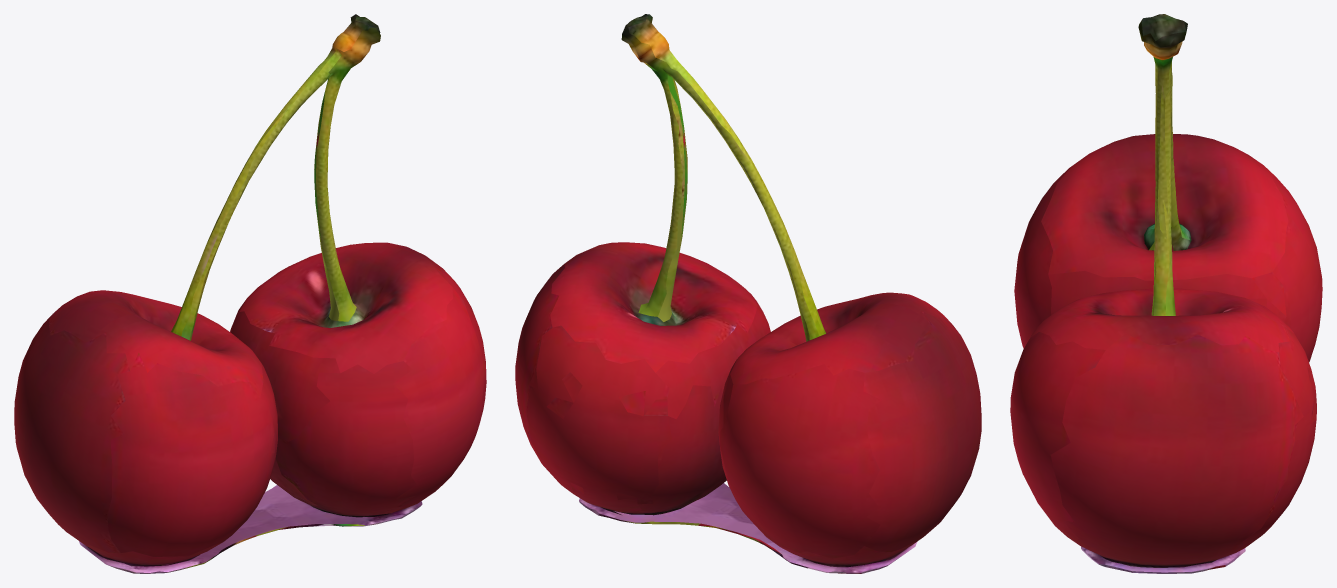
Rendered from cherry.glb.
3 renders of one model, left to right at view 1: azimuth 30°, elevation 25°; view 2: azimuth 150°, elevation 25°; view 3: azimuth 270°, elevation 25°, orthographic. The views are drawn at different scales.
Visible parts, largest first — view 1: item_cherry; view 2: item_cherry; view 3: item_cherry.
Boxes of the visible parts, x1,y1,x2,y2 form: item_cherry: [14, 14, 486, 573]; item_cherry: [515, 14, 981, 573]; item_cherry: [1010, 14, 1322, 573].
Bounding box in the file's own units: 0.9406 × 1 × 0.5283.
1 material, 1 textured.
